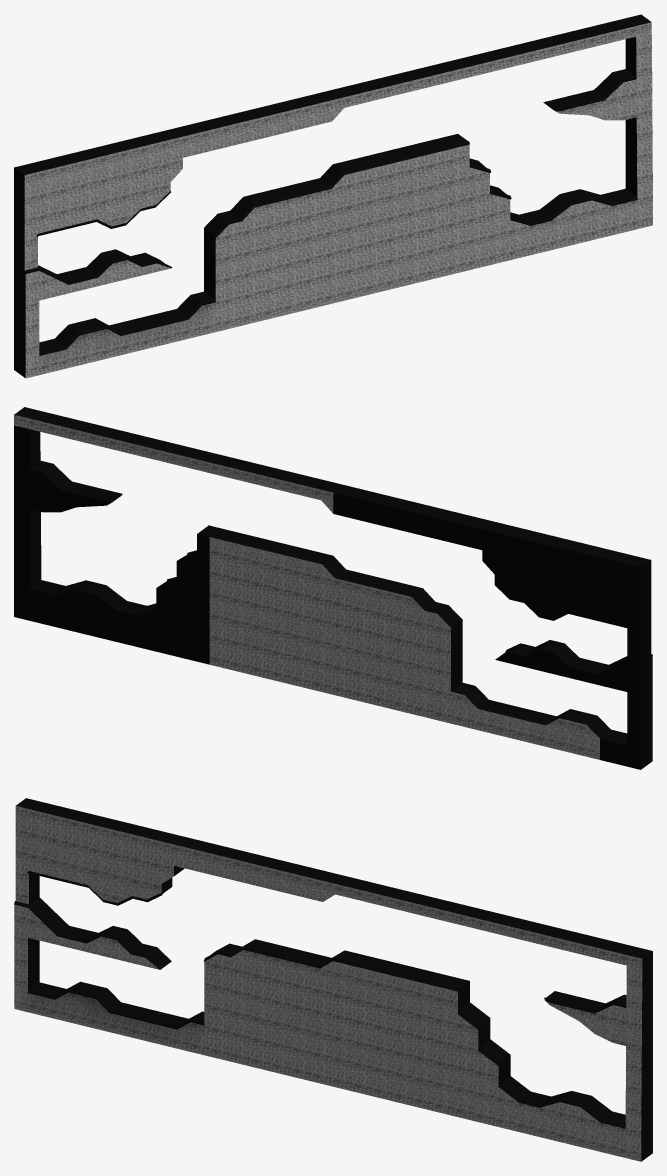
File: Castle_level_3d.FBX
The picture shows the model from 3 angles, top to bottom: view 1: azimuth 30°, elevation 25°; view 2: azimuth 150°, elevation 25°; view 3: azimuth 330°, elevation 25°; orthographic projection.
Visible parts, largest first — view 1: Castle_level_3d; view 2: Castle_level_3d; view 3: Castle_level_3d.
Boxes of the visible parts, x1,y1,x2,y2 form: Castle_level_3d: (14, 14, 652, 378); Castle_level_3d: (14, 407, 652, 769); Castle_level_3d: (14, 798, 652, 1161).
Bounding box in the file's own units: 308 × 95 × 10.59.
Materials: 2 (1 with a texture image).
